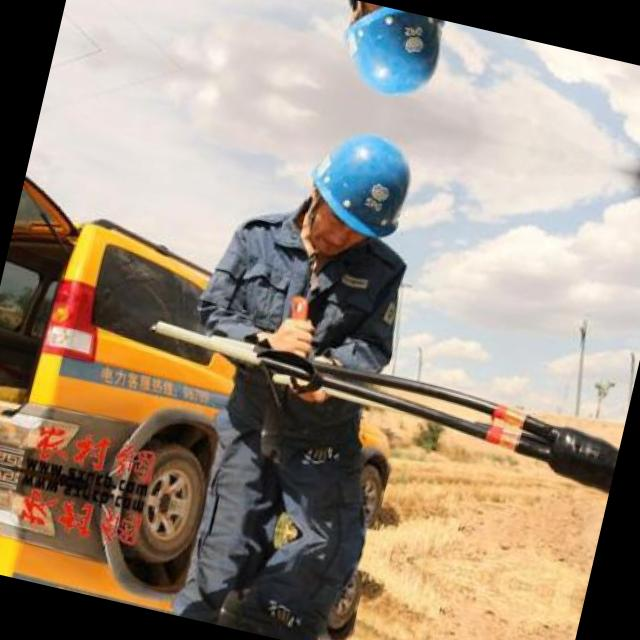helmet: (284, 103, 441, 281), (319, 0, 467, 128)
